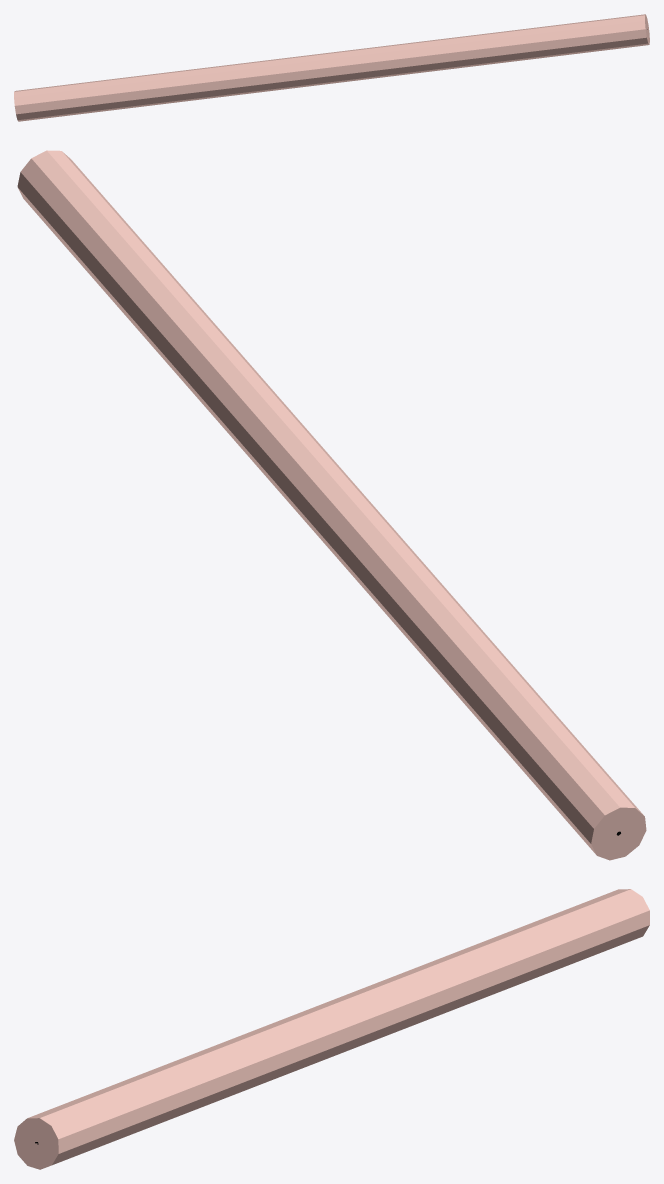
Rendered from tile_17.glb.
The picture shows the model from 3 angles, top to bottom: view 1: azimuth 30°, elevation 25°; view 2: azimuth 150°, elevation 25°; view 3: azimuth 270°, elevation 25°; orthographic projection. The views are drawn at different scales.
Size of the model in its own units: 4.36 by 1.04 by 2.95.
